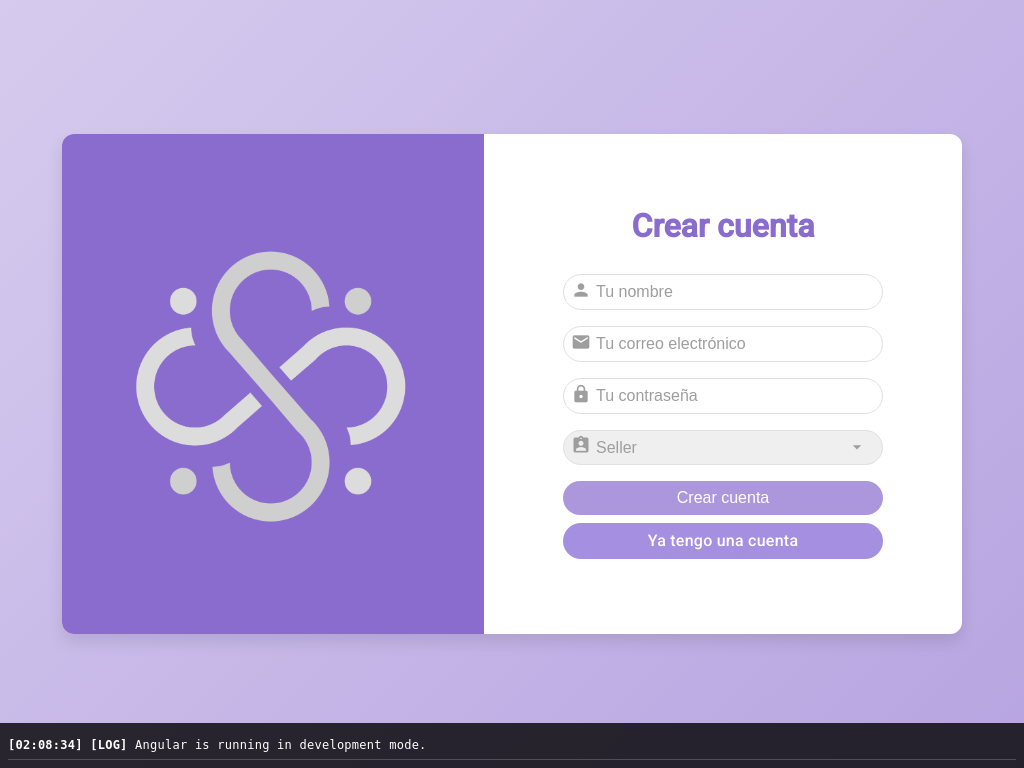
Register Component › should handle successful registration
This screenshot has width=1024, height=768.
Note: Fill valid form
Type "Test User" into the field named "name" at [723, 292], box 563,274 -> 883,310
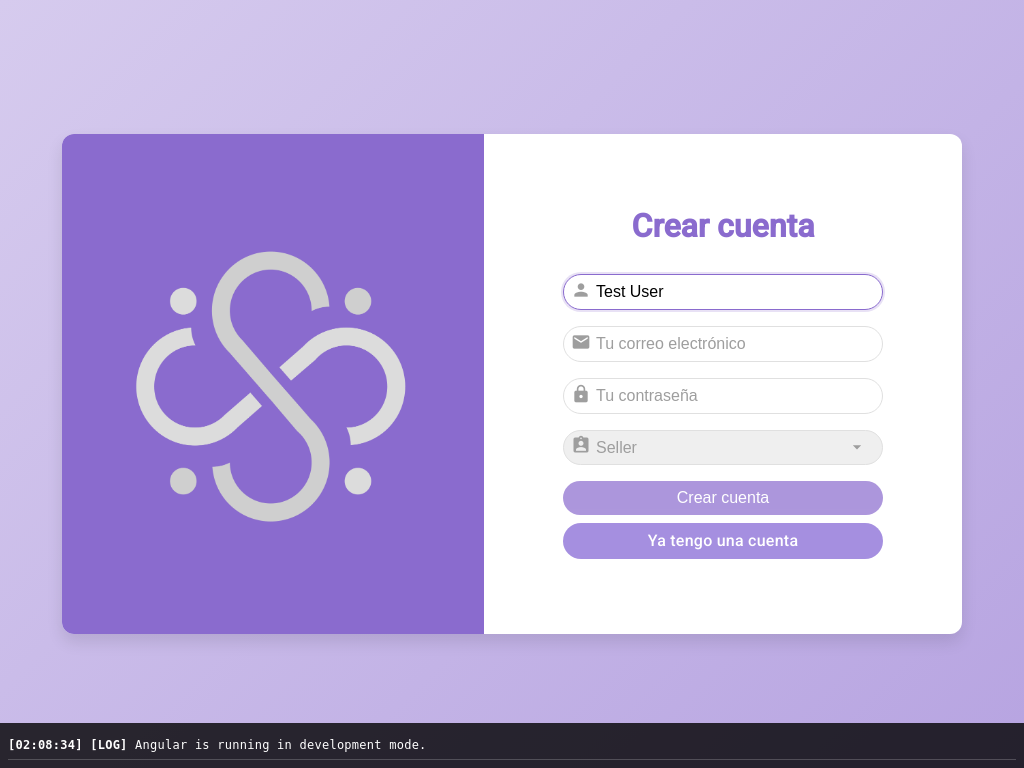
Type "test@example.com" into the field named "email" at [723, 344], box 563,326 -> 883,362
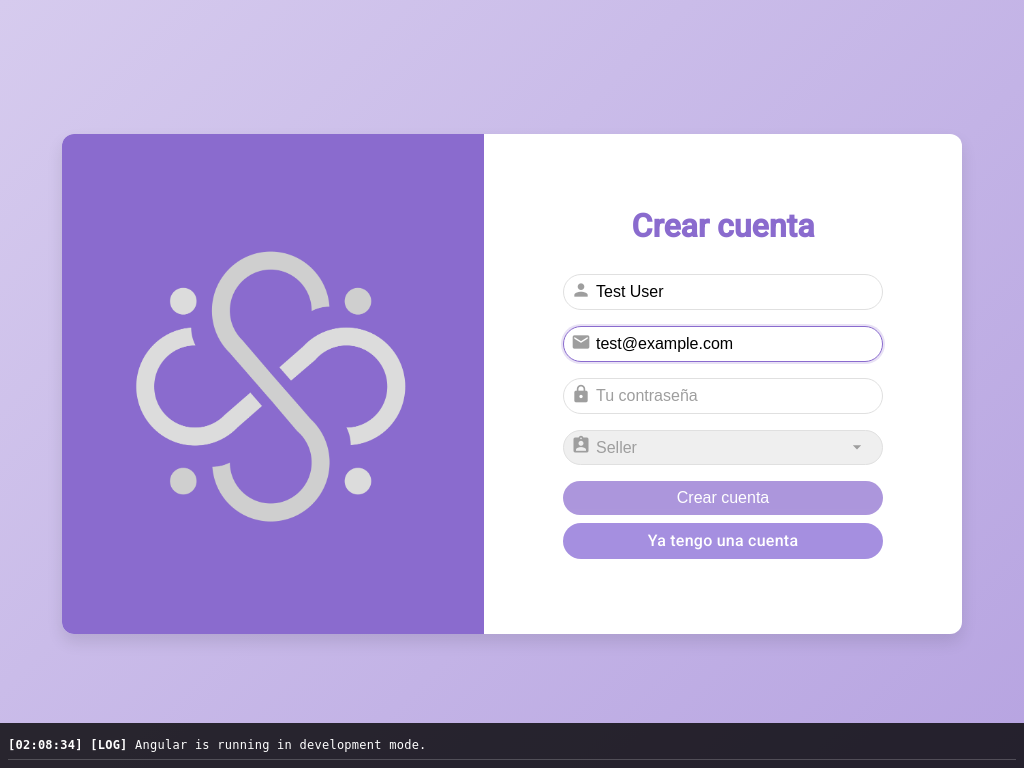
Type "Test123!" into the password field named "password" at [723, 396], box 563,378 -> 883,414
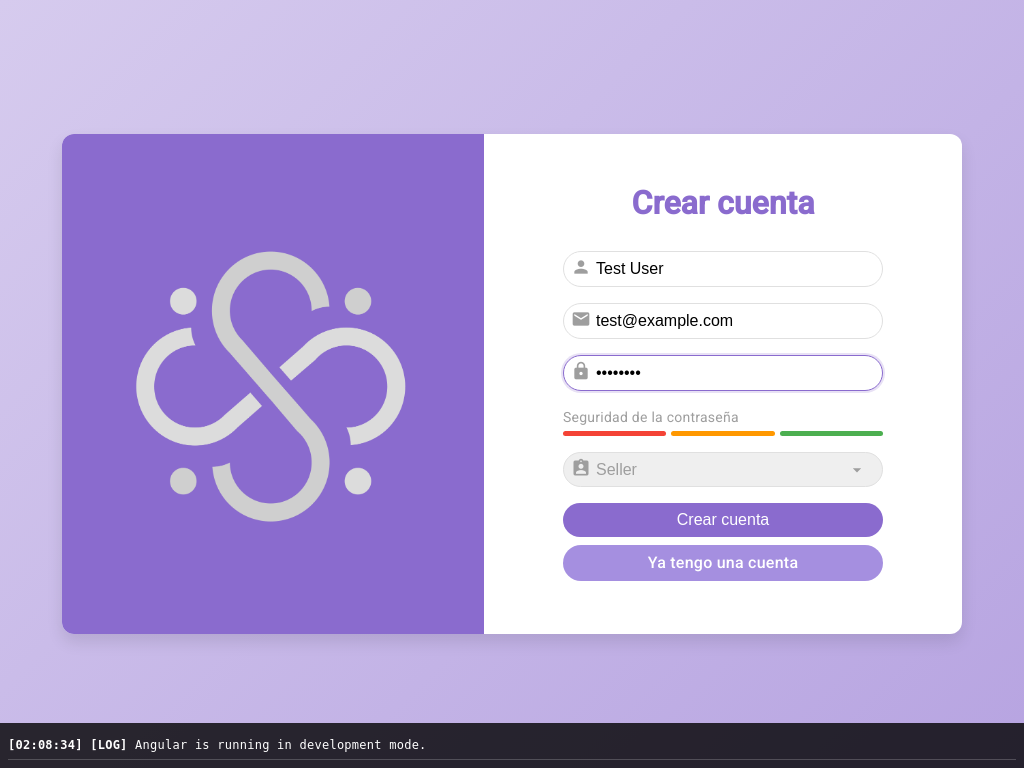
Select "Seller" in the dropdown named "role" at [723, 470], box 563,452 -> 883,487
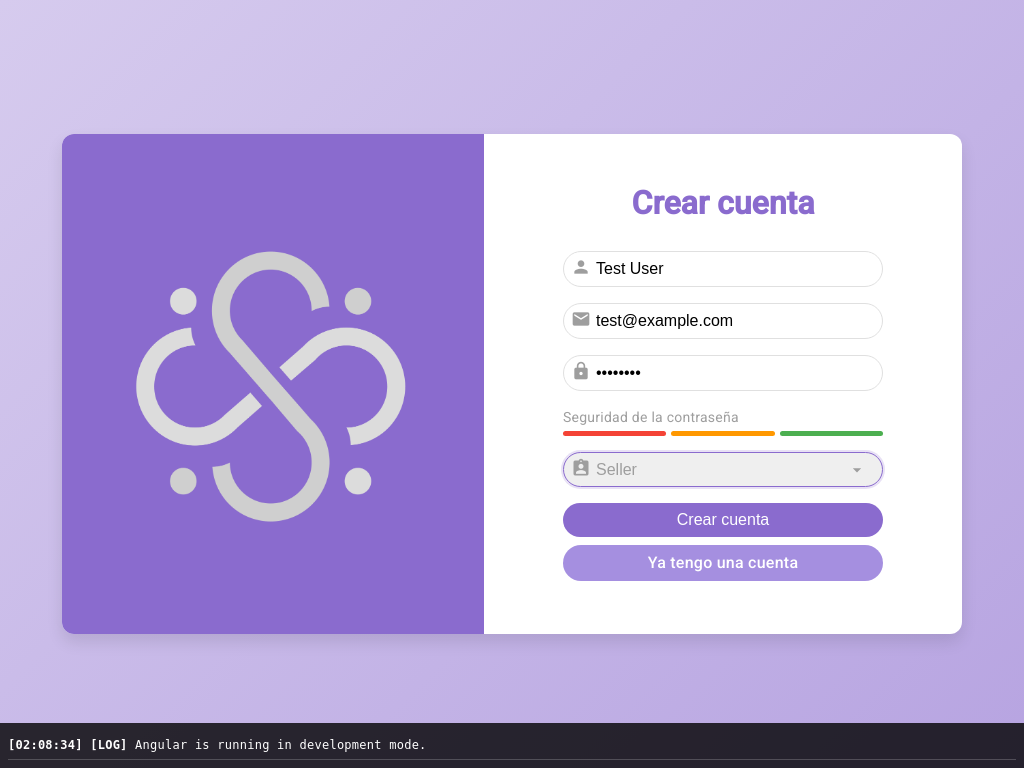
Note: Submit form
Click the button with class "create-account-btn" at [723, 520], box 563,503 -> 883,537
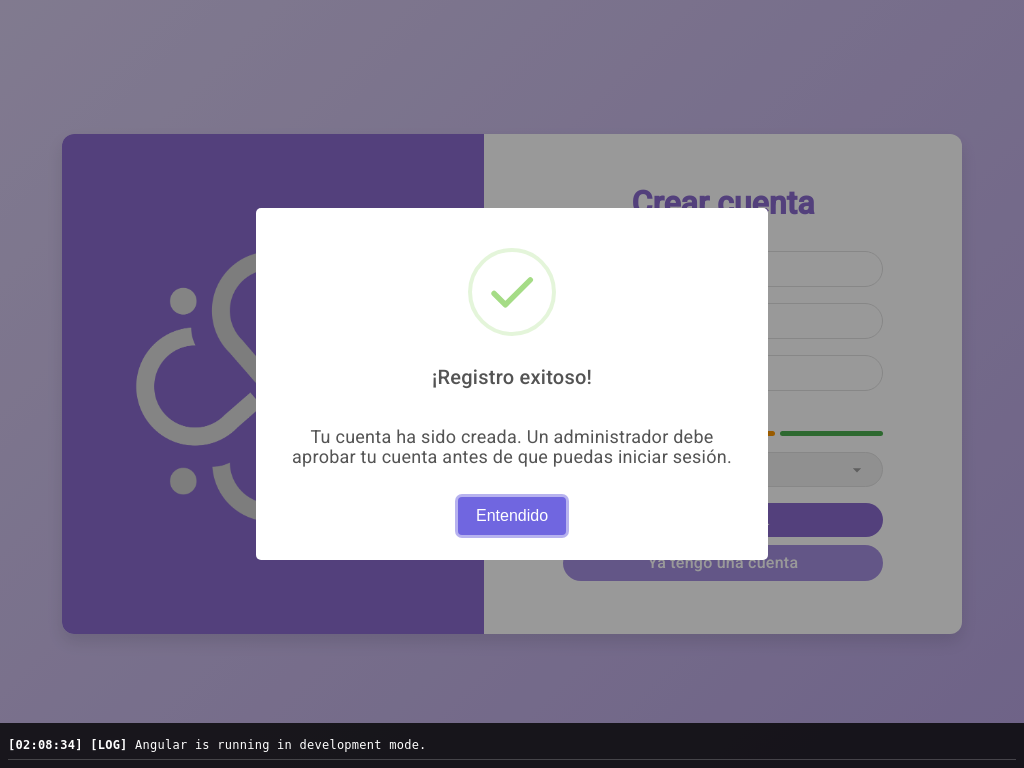
expect the dialog with class "swal2-popup" is shown: met, box 256,208 -> 768,561
expect the heading with class "swal2-title" reads "¡Registro exitoso!": met, box 432,365 -> 592,389
expect the button with class "swal2-confirm" reads "Entendido": met, box 458,498 -> 565,536
